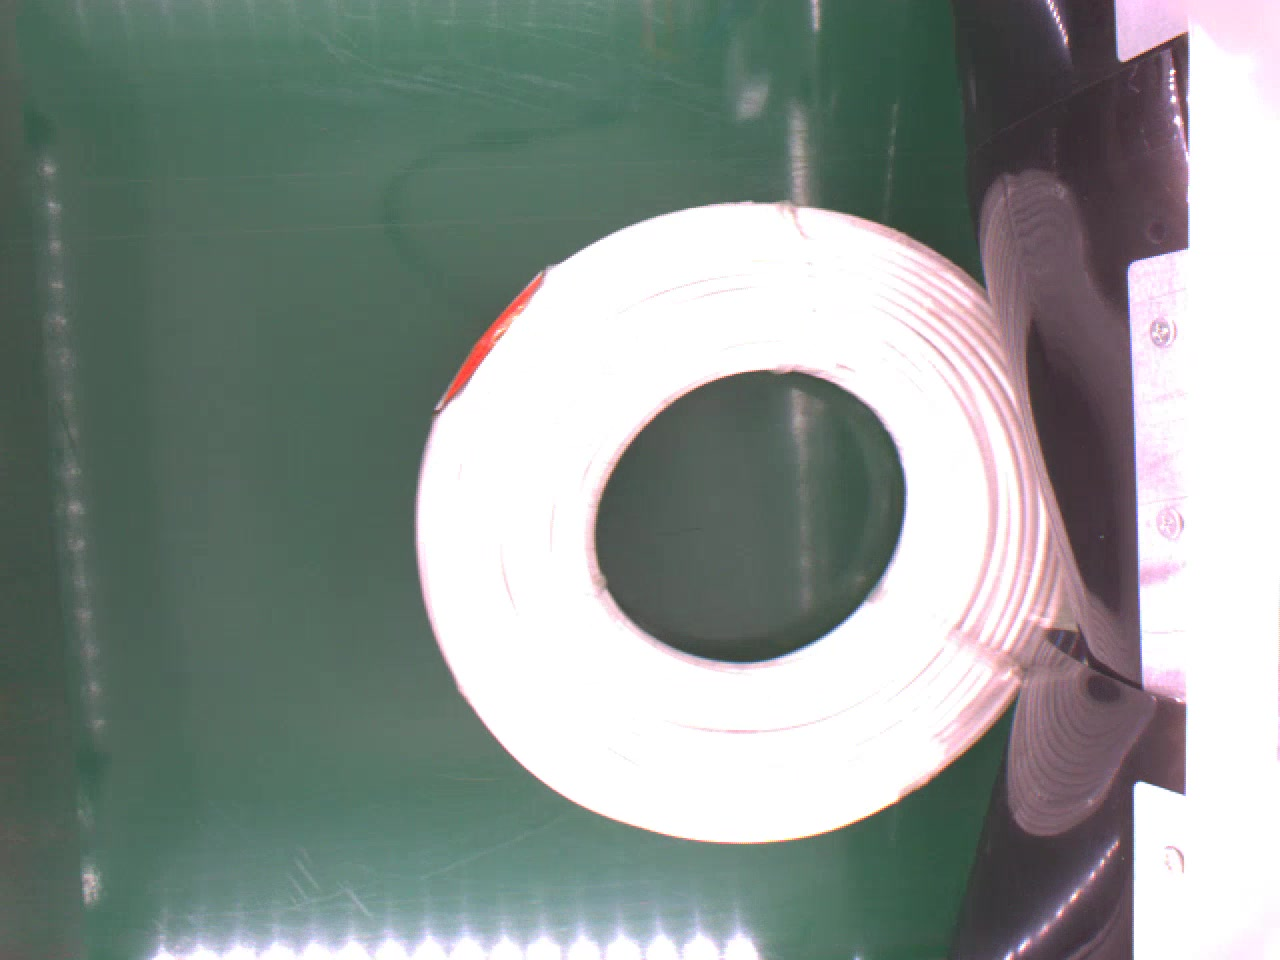white: (412, 191, 1066, 850)
